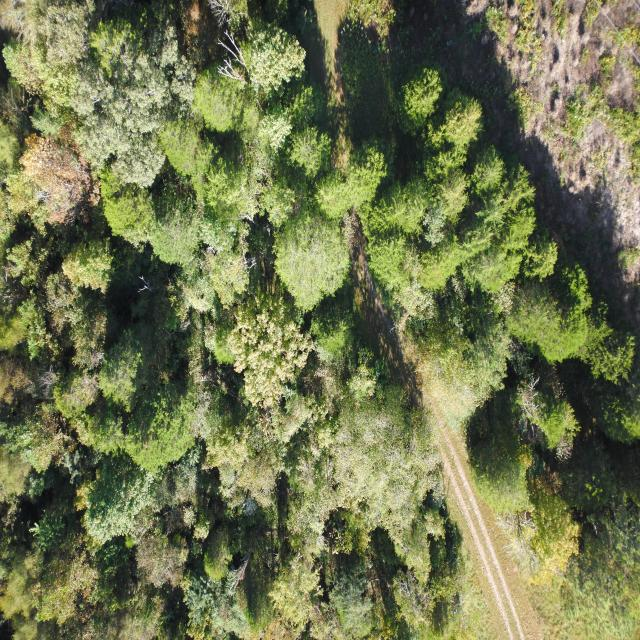Area of Interest: (3, 4, 625, 622)
